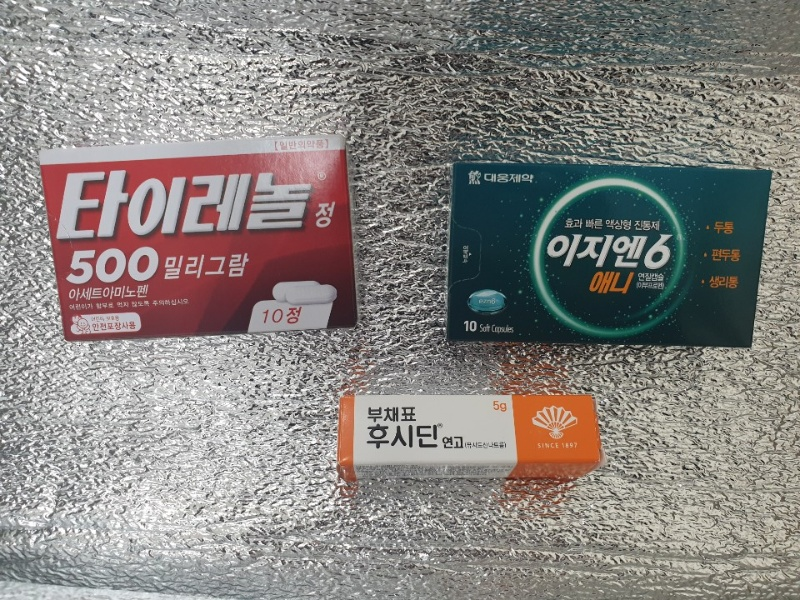ezn: (450, 163, 769, 345)
fucidin: (337, 393, 602, 480)
tylenol: (39, 137, 359, 339)
